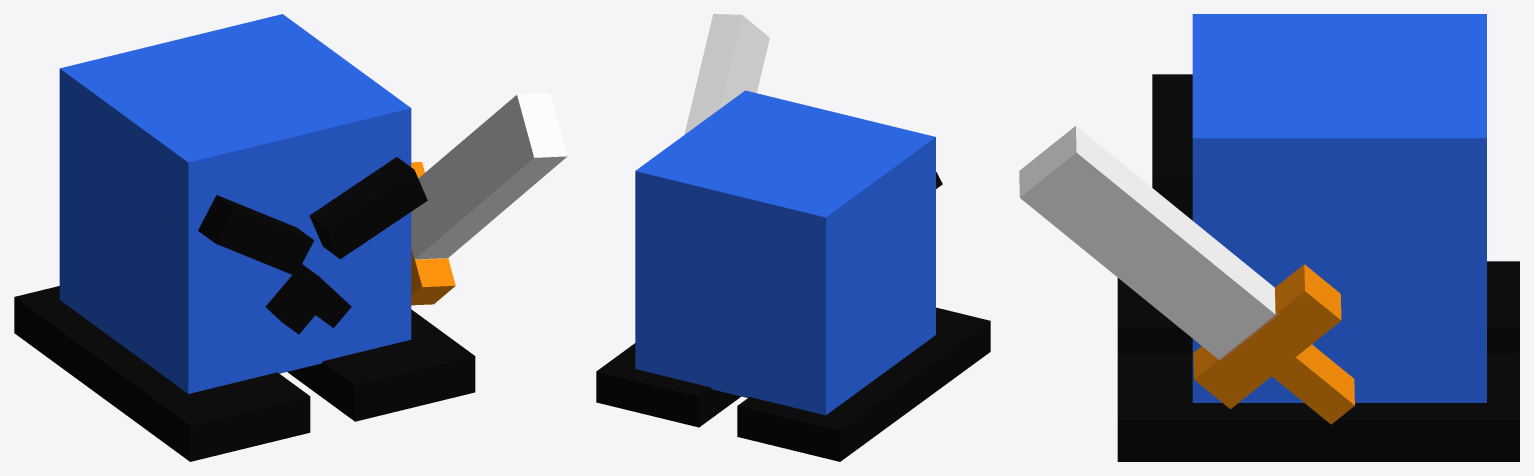
Rendered from enemy.fbx.
3 renders of one model, left to right at view 1: azimuth 30°, elevation 25°; view 2: azimuth 150°, elevation 25°; view 3: azimuth 270°, elevation 25°, orthographic. The views are drawn at different scales.
Parts seen in each view (by area): view 1: Cube.001; view 2: Cube.001; view 3: Cube.001.
Part boxes in pixels (x1,y1,x2,y2): Cube.001: (14, 14, 567, 461); Cube.001: (596, 14, 990, 461); Cube.001: (1019, 14, 1519, 461).
Bounding box in the file's own units: 307 × 262 × 340.
